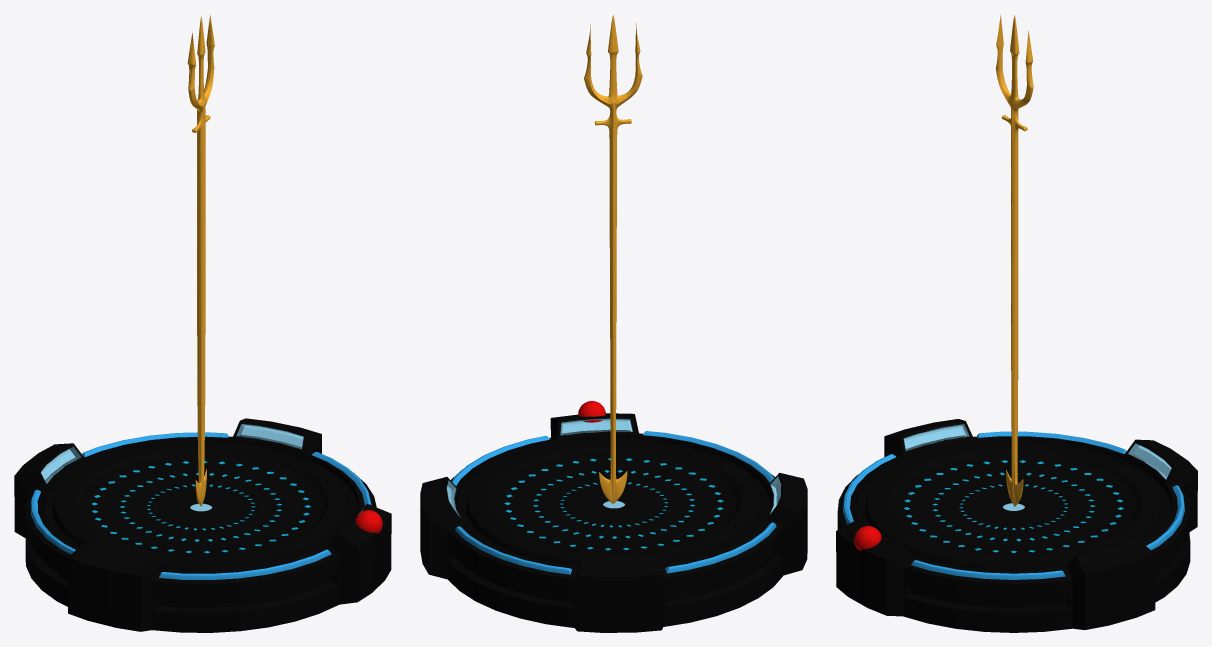
File: Trident and Podium.fbx
3 views of the same model, side by side, from view 1: azimuth 30°, elevation 25°; view 2: azimuth 150°, elevation 25°; view 3: azimuth 270°, elevation 25° (orthographic).
Visible parts, largest first — view 1: Podium, Trident; view 2: Podium, Trident; view 3: Podium, Trident.
Part boxes in pixels (x1,y1,x2,y2): Podium: (14,418,391,632); Trident: (187,15,214,506); Podium: (420,401,807,632); Trident: (584,15,642,504); Podium: (836,419,1197,632); Trident: (995,14,1033,506).
Bounding box in the file's own units: 857 × 1407 × 844.
